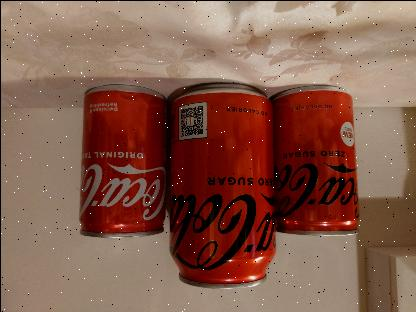Can: (167, 81, 276, 289), (78, 86, 166, 239), (273, 84, 359, 236)
